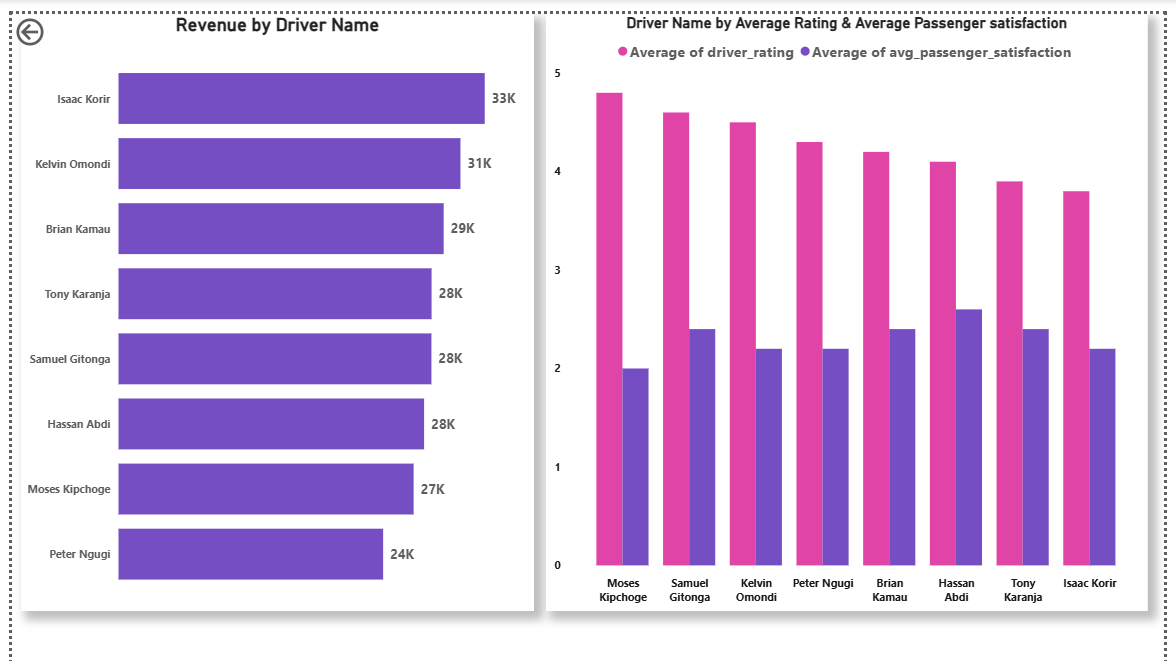

This screenshot's page, from the dashboard's own definition file:
{"tool":"powerbi","page":{"name":"driver_perfomance","canvas":[1280,720],"ordinal":2},"visuals":[{"type":"clusteredBarChart","fields":{"Category":["safari_connect v_driver_perfomance.driver_name"],"Y":["Sum(safari_connect v_driver_perfomance.revenue_generated)"]},"box":[9.8,0,491.9,624.2],"z":0},{"type":"actionButton","box":[0,0,100,40],"z":2000},{"type":"clusteredColumnChart","title":"Driver Name by Average Driver Rating and Average Passenger satisfaction","fields":{"Category":["safari_connect v_driver_perfomance.driver_name"],"Y":["Avg(safari_connect v_driver_perfomance.driver_rating)","Avg(safari_connect v_driver_perfomance.avg_passenger_satisfaction)"]},"box":[544.1,0,655.3,624.2],"z":3000}]}

Visuals, with their boxes in screenshot pixels (x1, y1, x2, y2), scaled from the page's 1280x720 canvas onto the 1176x661 screenshot:
clusteredBarChart - safari_connect v_driver_perfomance.driver_name x Sum(safari_connect v_driver_perfomance.revenue_generated): [9, 0, 461, 573]
actionButton: [0, 0, 92, 37]
"Driver Name by Average Driver Rating and Average Passenger satisfaction" clusteredColumnChart: [500, 0, 1102, 573]
